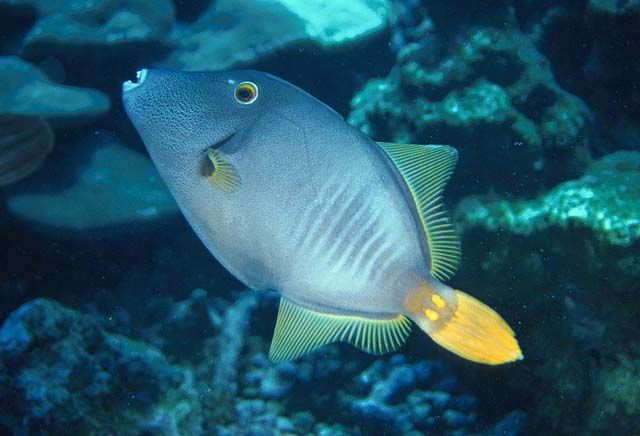fish: (120, 68, 524, 363)
